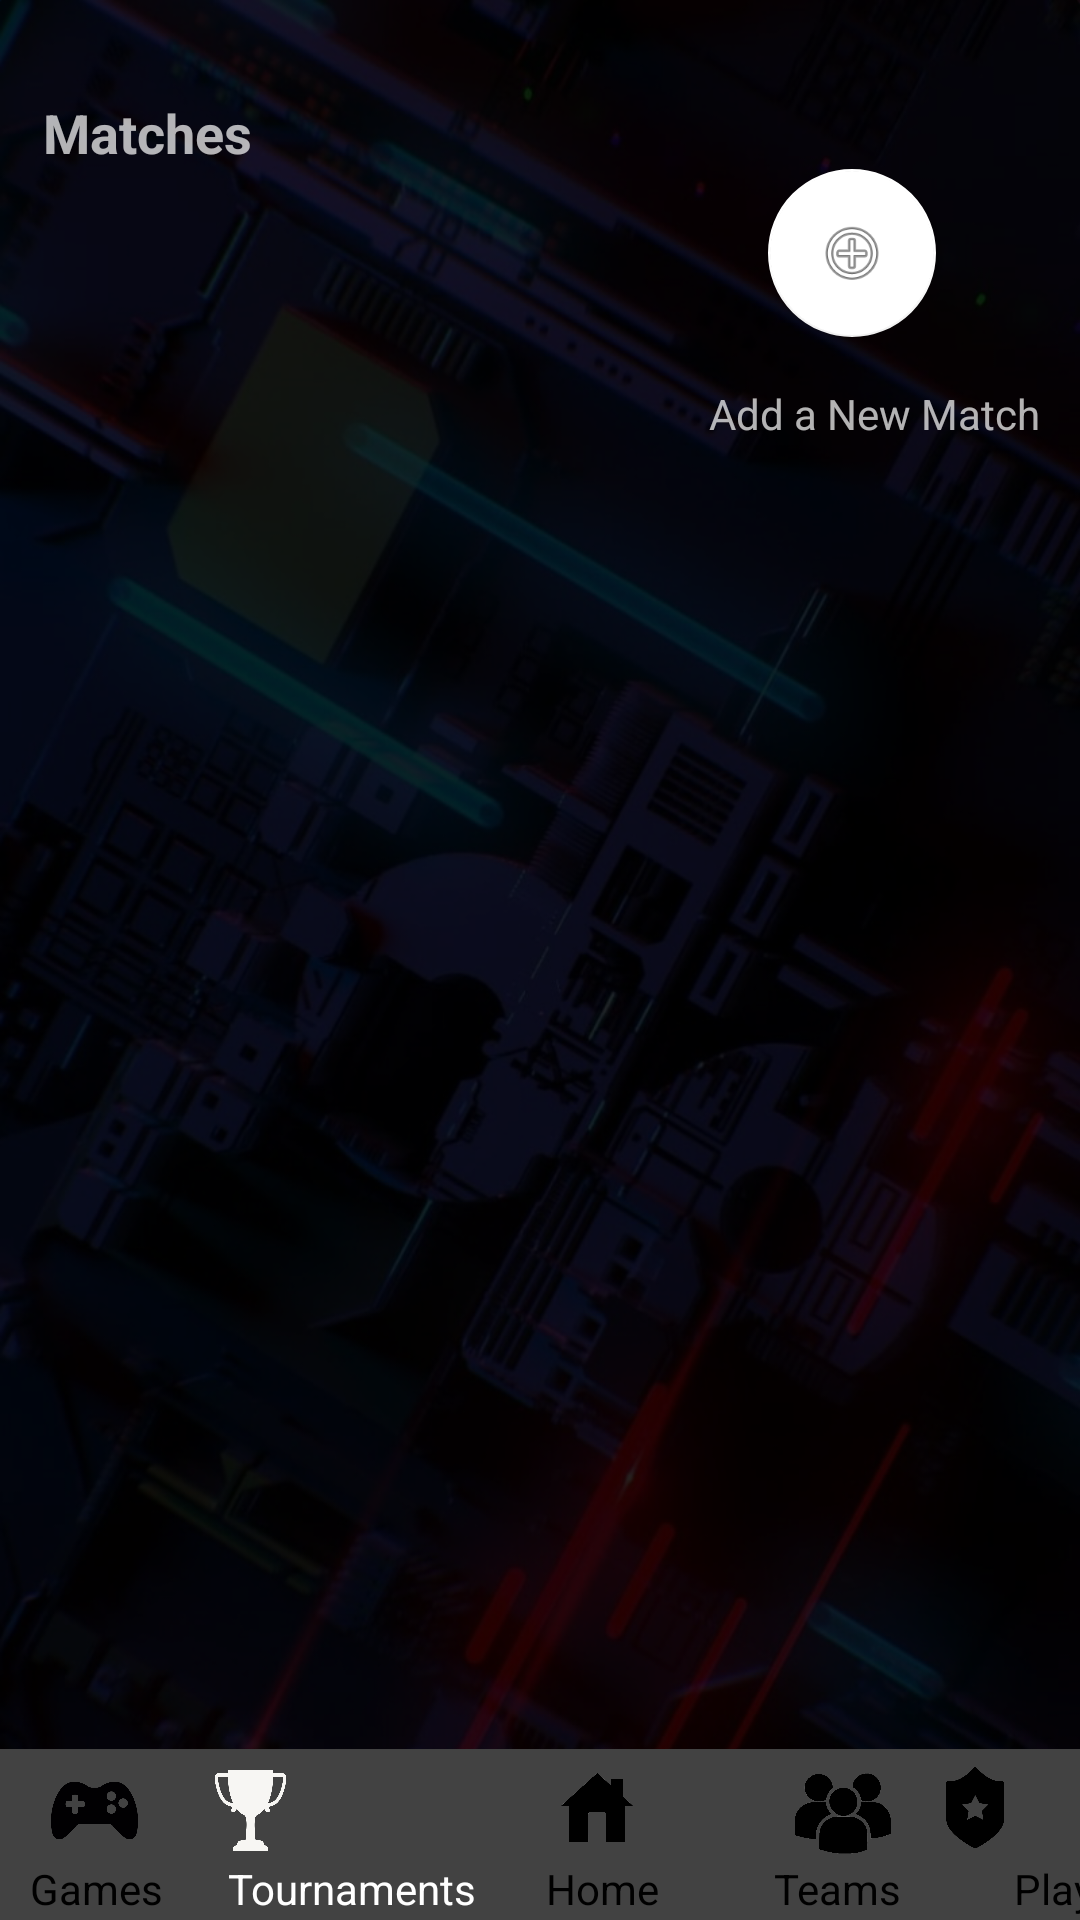

Screen size 1080px x 1920px. Icon name, then its box in pixels as rect(x1, y1, x2, y2):
console: rect(51, 1782, 138, 1839)
cupwhite: rect(215, 1770, 286, 1851)
rank: rect(946, 1767, 1004, 1848)
